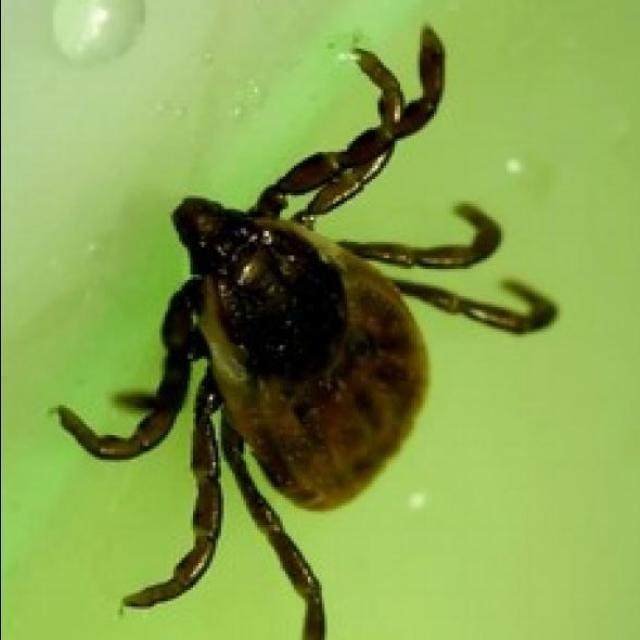Rhipicephalus Sanguineus-F: (52, 27, 556, 640)
